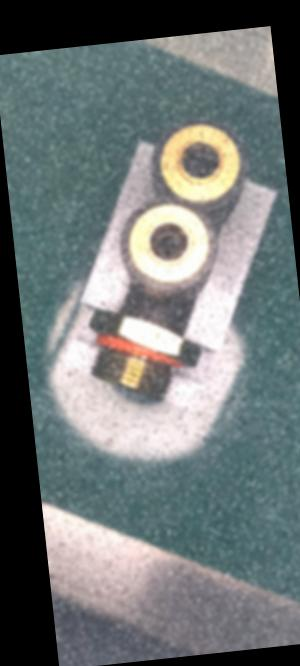craze: (143, 301, 157, 321)
